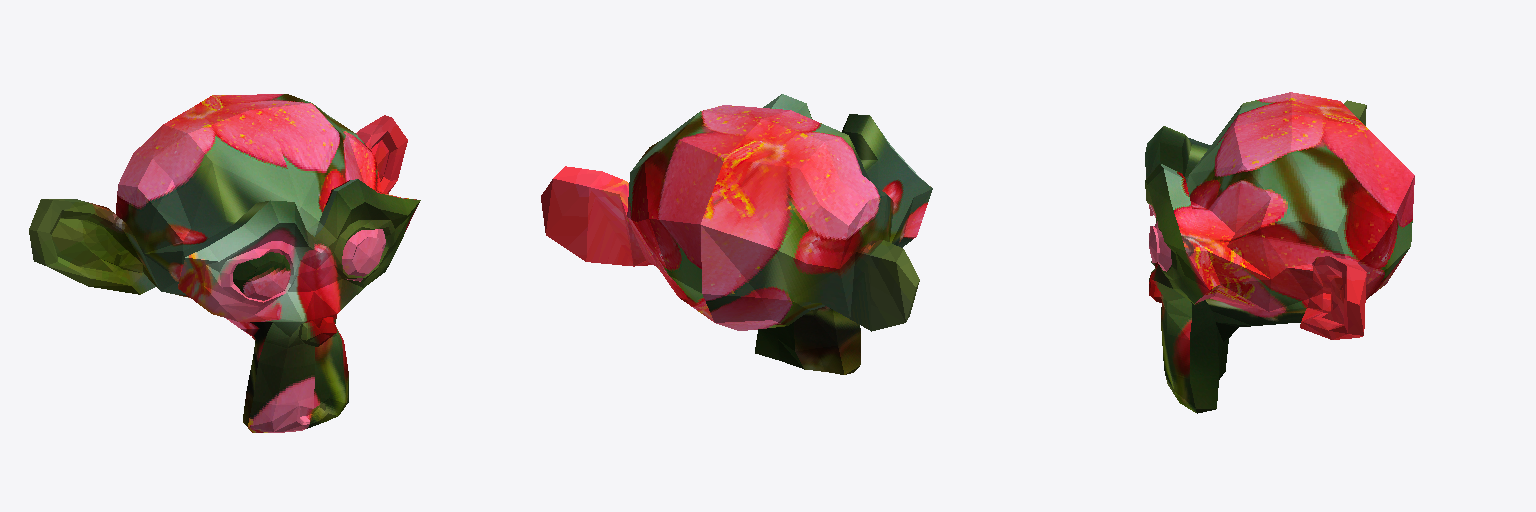
3 renders of one model, left to right at view 1: azimuth 30°, elevation 25°; view 2: azimuth 150°, elevation 25°; view 3: azimuth 270°, elevation 25°, orthographic.
Parts seen in each view (by area): view 1: Suzanne; view 2: Suzanne; view 3: Suzanne.
Part boxes in pixels (left/top/right/bottom): Suzanne: left=29, top=94, right=420, bottom=432; Suzanne: left=541, top=94, right=932, bottom=374; Suzanne: left=1145, top=92, right=1414, bottom=413.
Size of the model in its own units: 2.73 by 1.97 by 1.7.
Materials: 1 (1 with a texture image).